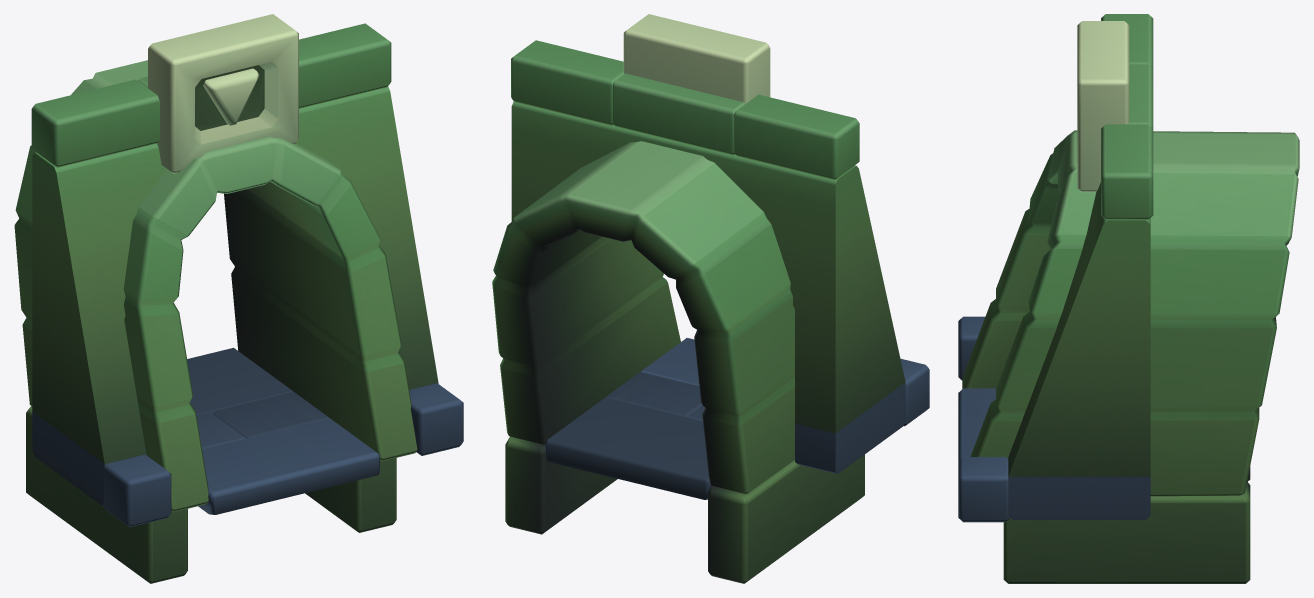
Rendered from doorway_down_lower_wall_walkable.fbx.
The picture shows the model from 3 angles, left to right: view 1: azimuth 30°, elevation 25°; view 2: azimuth 150°, elevation 25°; view 3: azimuth 270°, elevation 25°; orthographic projection. The views are drawn at different scales.
Visible parts, largest first — view 1: doorway_down_lower_wall_walkable; view 2: doorway_down_lower_wall_walkable; view 3: doorway_down_lower_wall_walkable.
Part boxes in pixels (x1,y1,x2,y2): doorway_down_lower_wall_walkable: (14, 14, 463, 583); doorway_down_lower_wall_walkable: (492, 14, 929, 583); doorway_down_lower_wall_walkable: (958, 14, 1299, 583).
Size of the model in its own units: 405 by 552 by 359.
